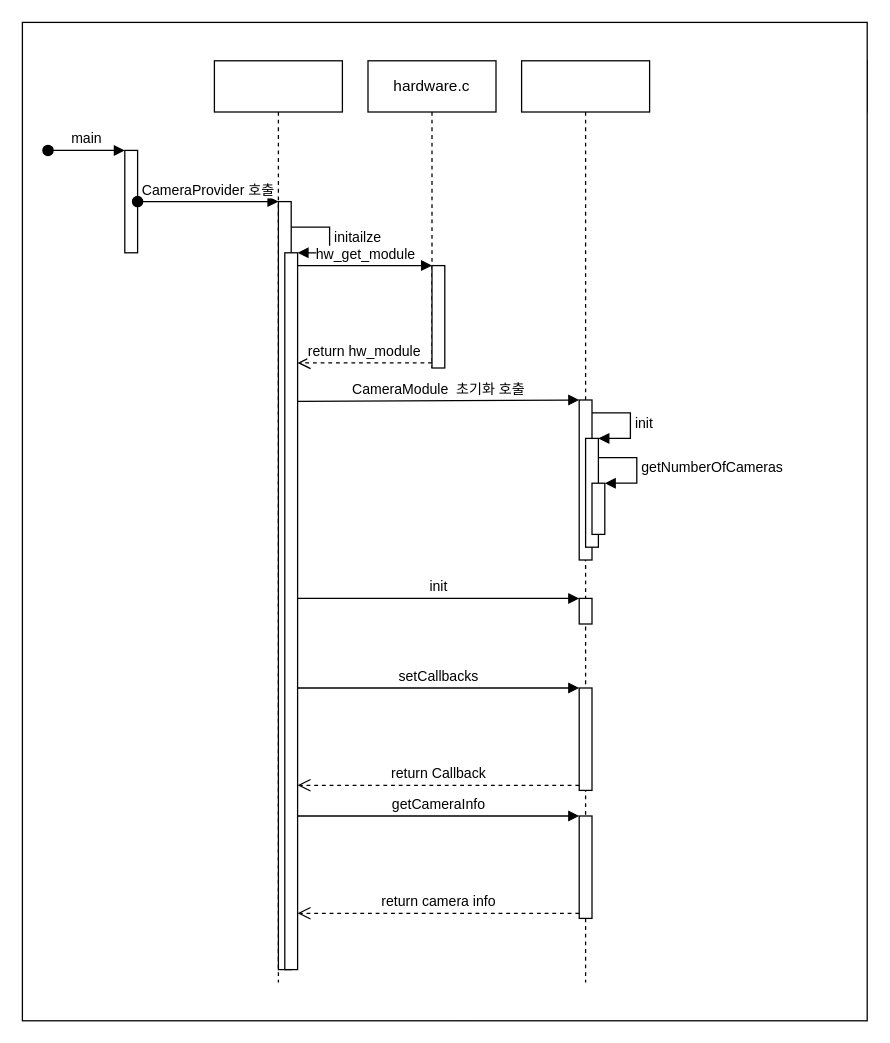
The diagram is 890 pixels wide and 1043 high, and some of its shapes have lost their labels. Each missing label, with the centre of its shape:
"CameraModule" goes at [585,521].
"CameraProvider" goes at [277,521].
